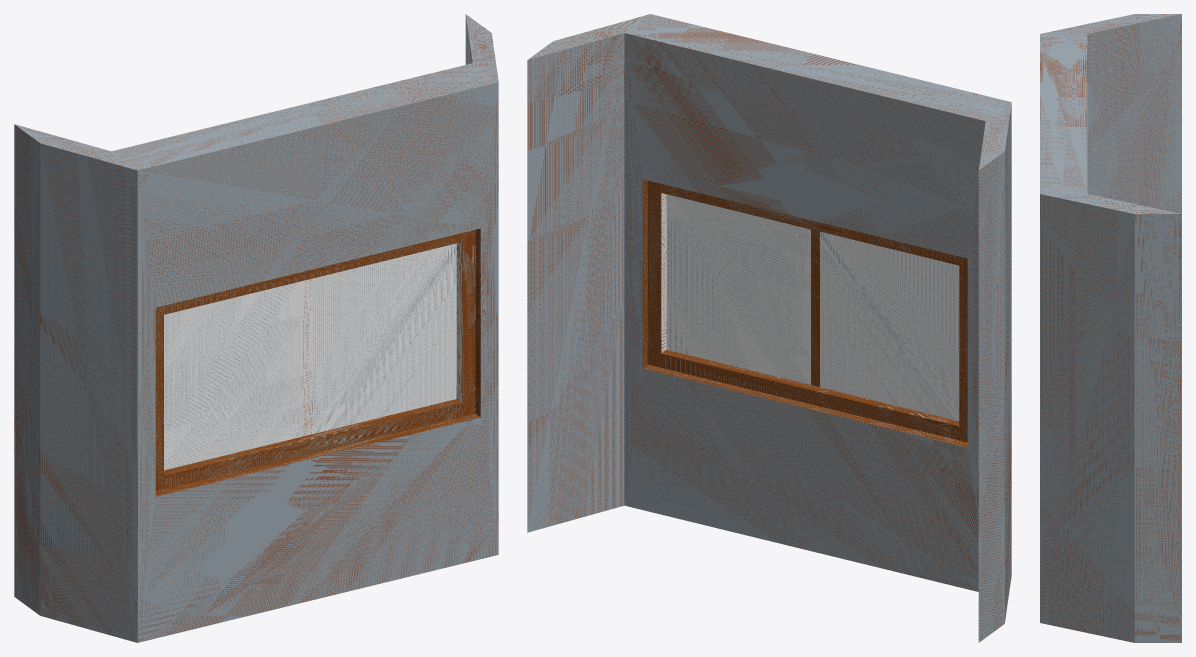
Rendered from window_bay_4b.fbx.
3 views of the same model, side by side, from view 1: azimuth 30°, elevation 25°; view 2: azimuth 150°, elevation 25°; view 3: azimuth 270°, elevation 25° (orthographic). The views are drawn at different scales.
Visible parts, largest first — view 1: Mesh1_window_15_1 Model; view 2: Mesh1_window_15_1 Model; view 3: Mesh1_window_15_1 Model.
Part boxes in pixels (<box>): Mesh1_window_15_1 Model: <box>14,14,498,642</box>; Mesh1_window_15_1 Model: <box>527,14,1011,642</box>; Mesh1_window_15_1 Model: <box>1040,14,1181,642</box>.
Bounding box in the file's own units: 1 × 1 × 0.3.
